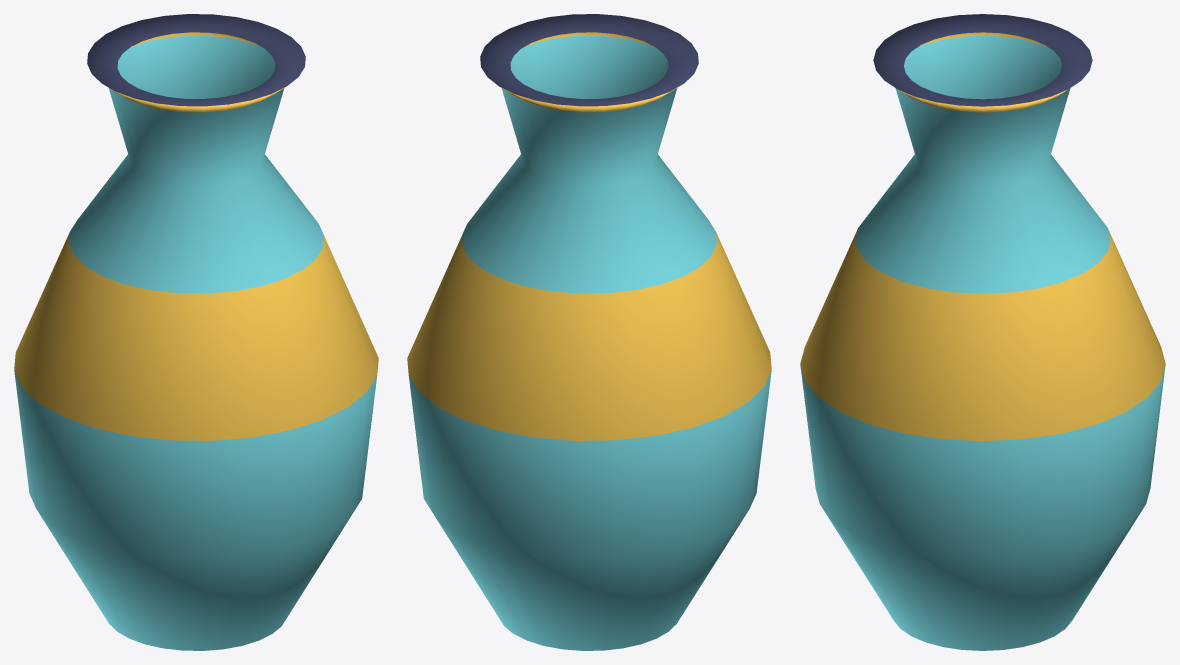
Rendered from vase.obj.
The picture shows the model from 3 angles, left to right: view 1: azimuth 30°, elevation 25°; view 2: azimuth 150°, elevation 25°; view 3: azimuth 270°, elevation 25°; orthographic projection.
Size of the model in its own units: 1.2 by 2 by 1.2.
